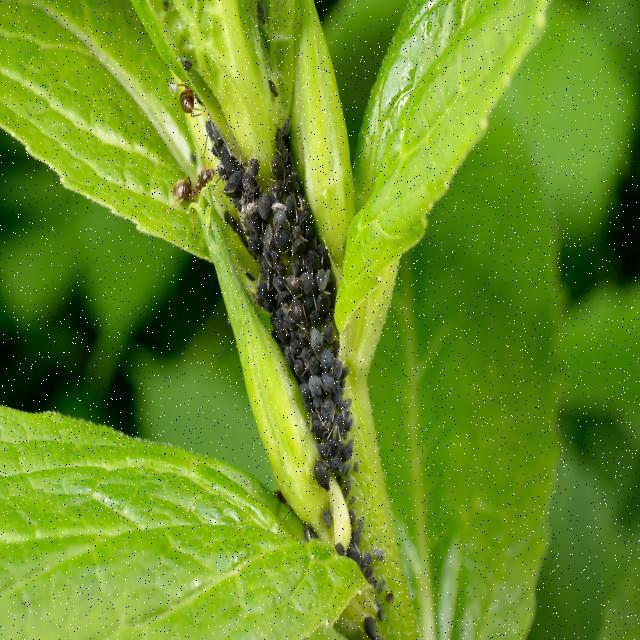Aphids: (197, 134, 391, 498)
